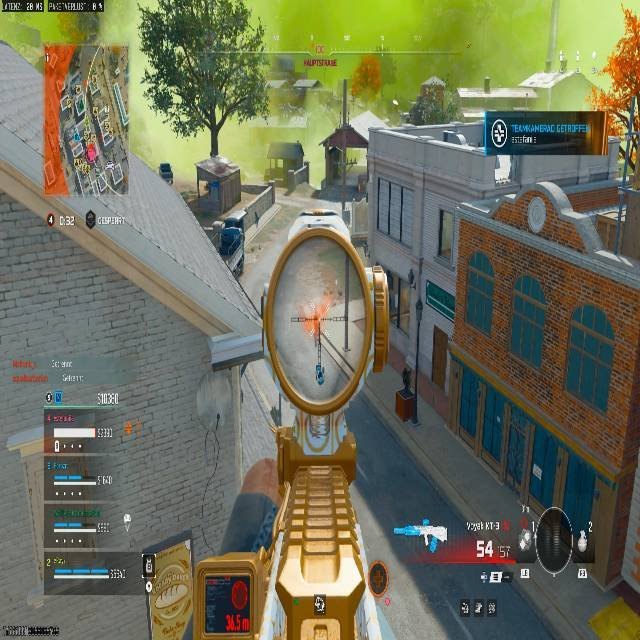player: (185, 136, 418, 432)
